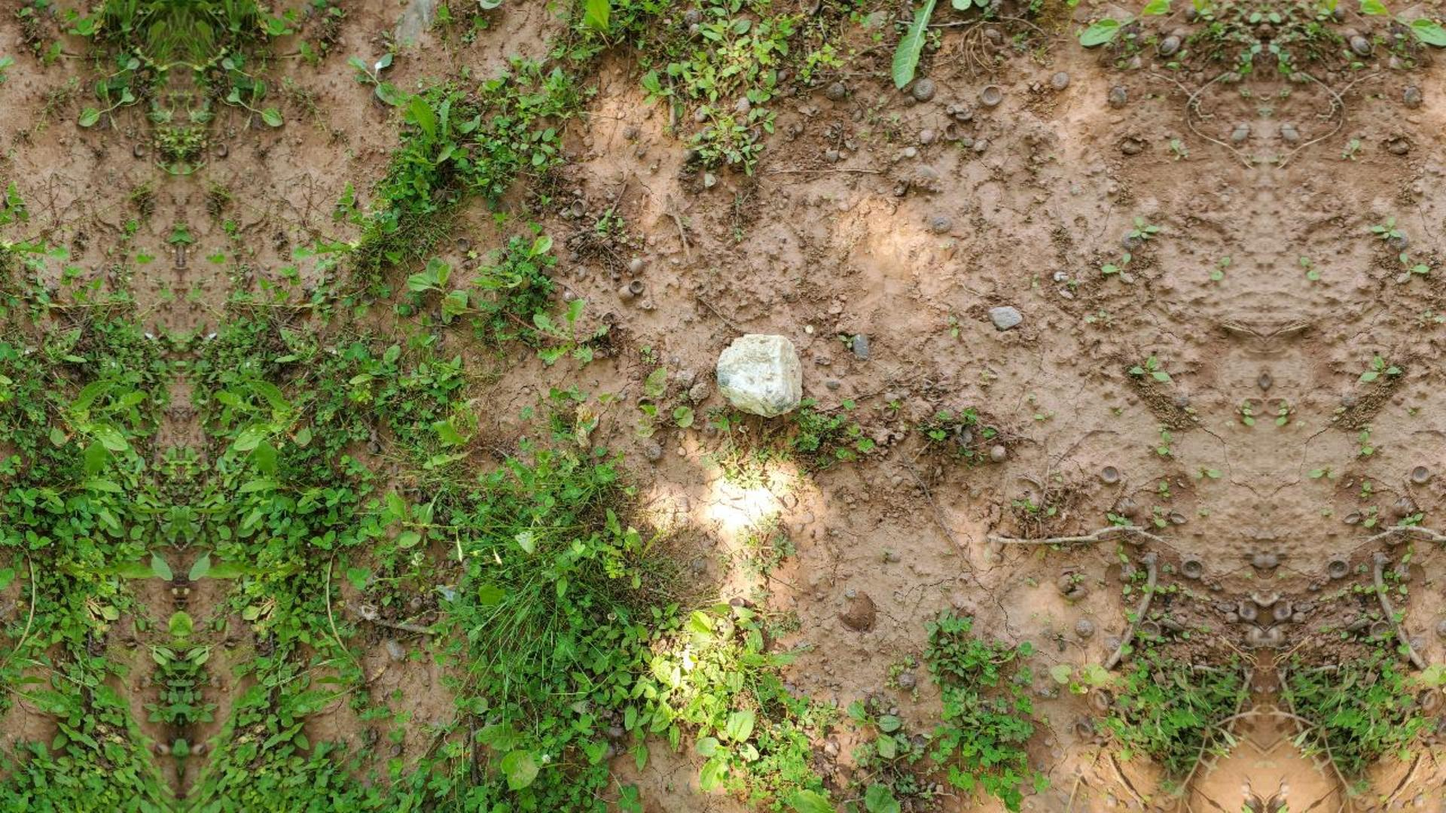rock: (716, 334, 801, 417)
